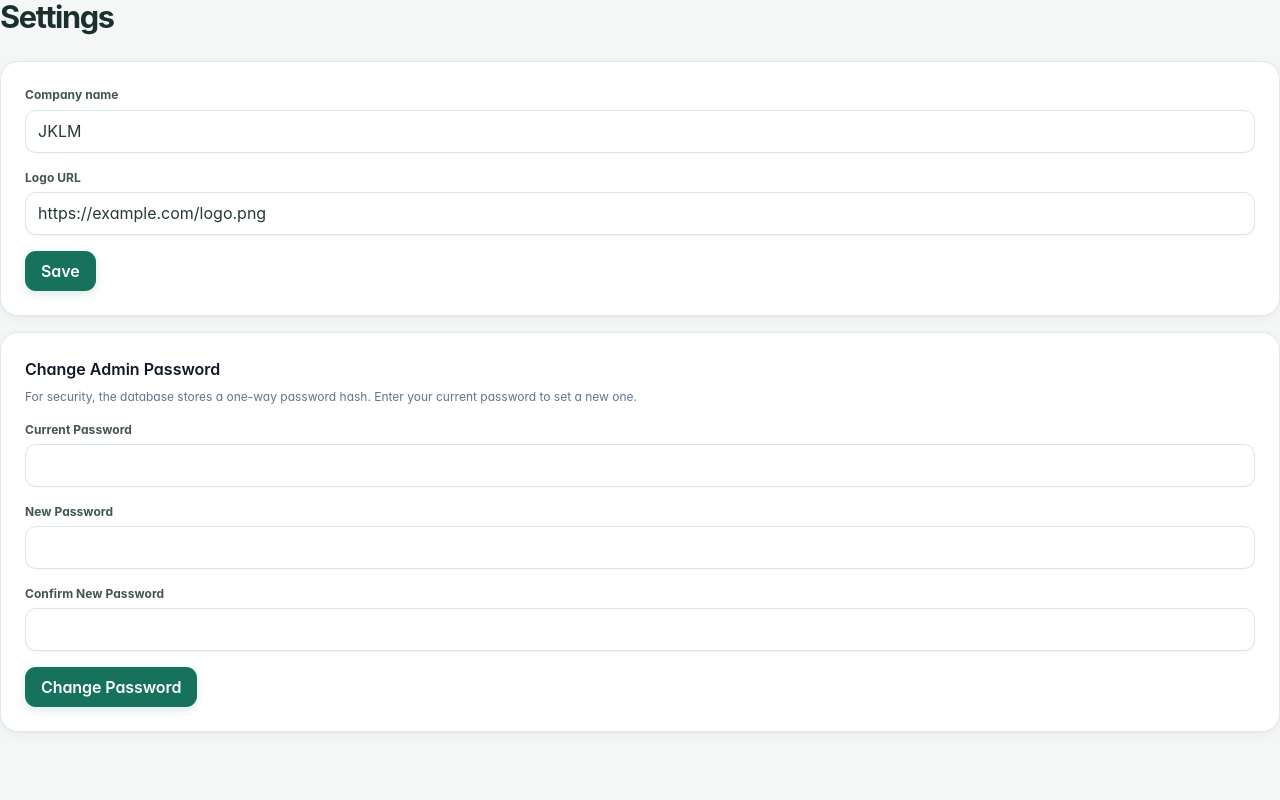
Scenario: saves name/logo without clearing hidden settings and updates shared branding immediately
This screenshot has width=1280, height=800.
Replace the text in the field labelled "Company name" with " New Company ". click: point(640, 131)
box: [25,110,1255,152]
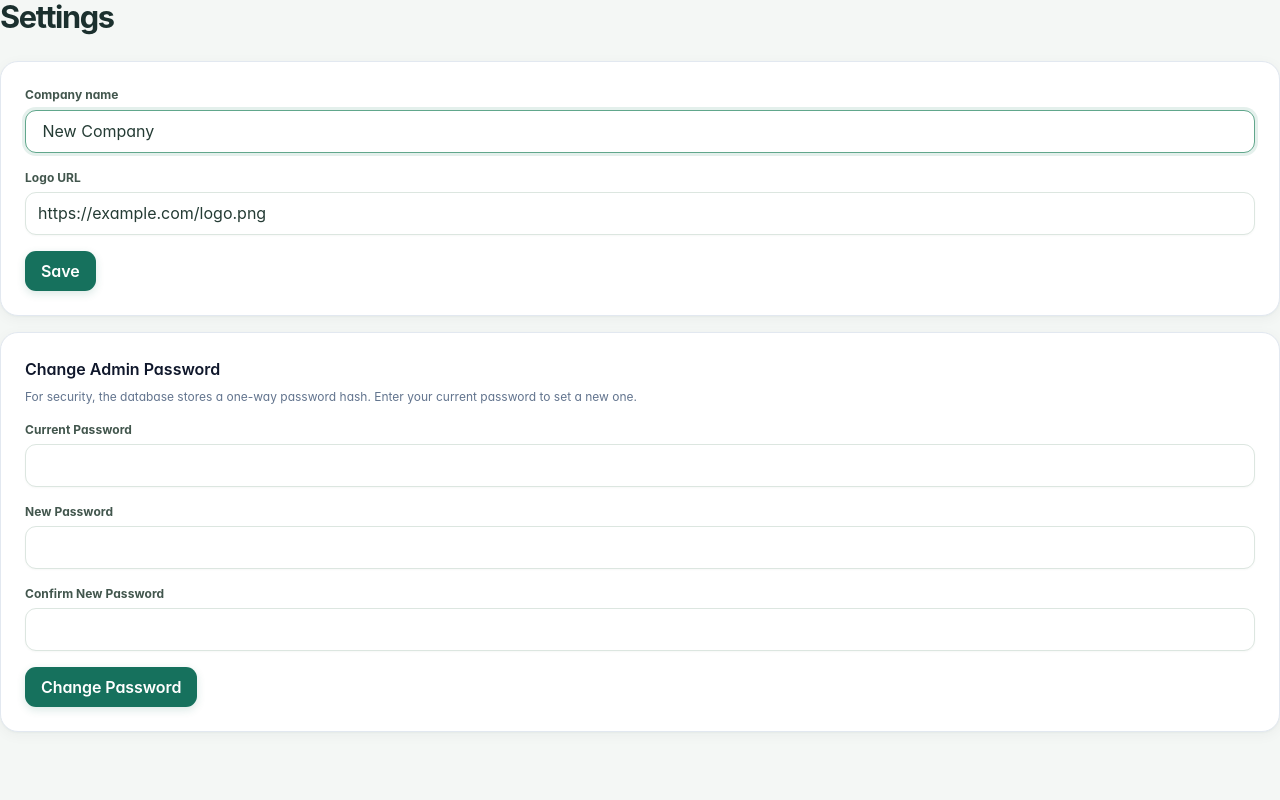
Type "https://example.com/new.png" into the field labelled "Logo URL". click: point(640, 213)
box: [25,192,1255,235]
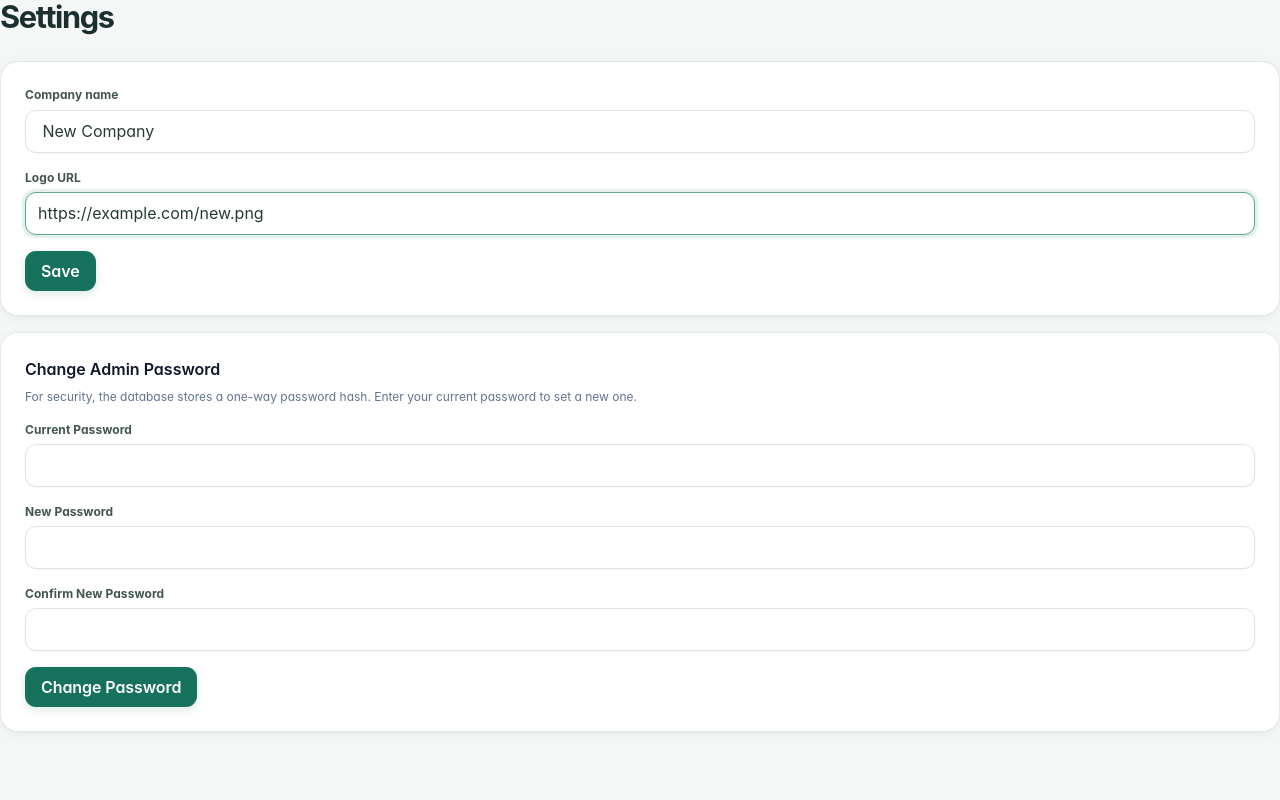
Click the button "Save". click: point(60, 271)
box: [25,251,96,291]
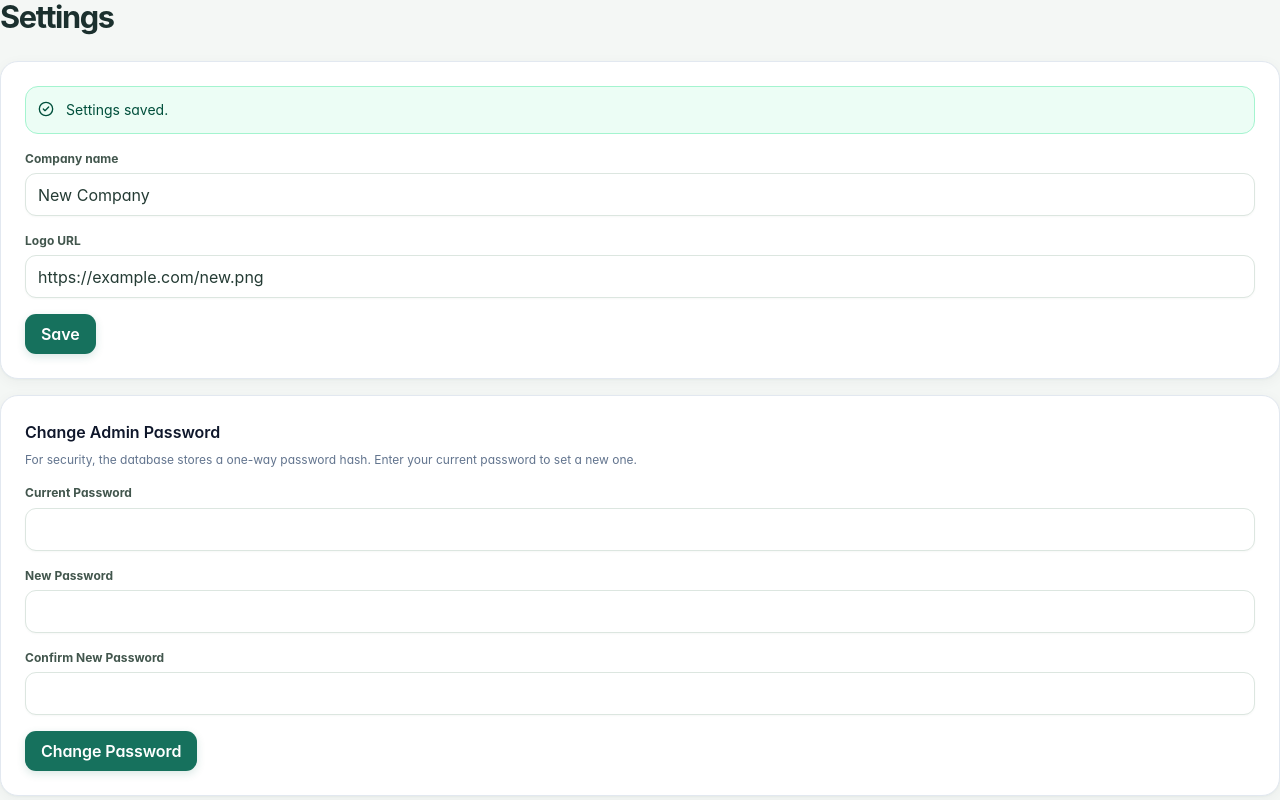
Check: the text "Settings saved." is shown, box [66,99,168,121]
